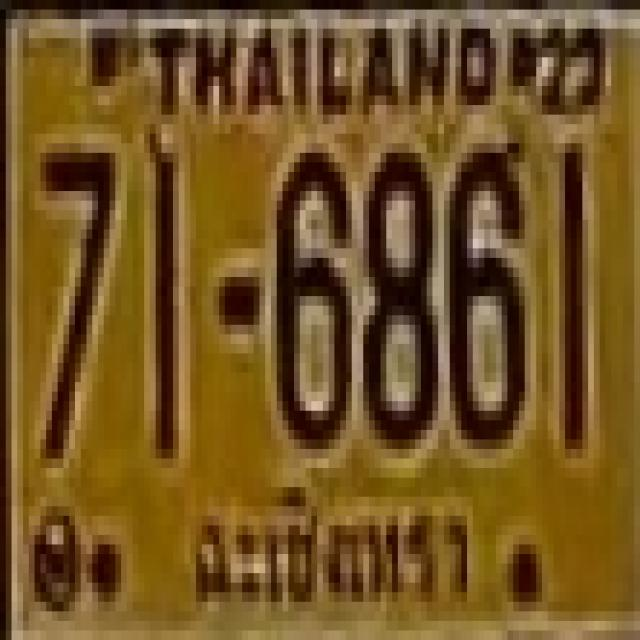1: (153, 143, 176, 449), (560, 139, 582, 444)
6: (447, 134, 522, 439), (271, 143, 346, 440)
7: (38, 148, 112, 454), (38, 144, 112, 354)
8: (363, 143, 432, 440)
CCO: (173, 470, 485, 624)
